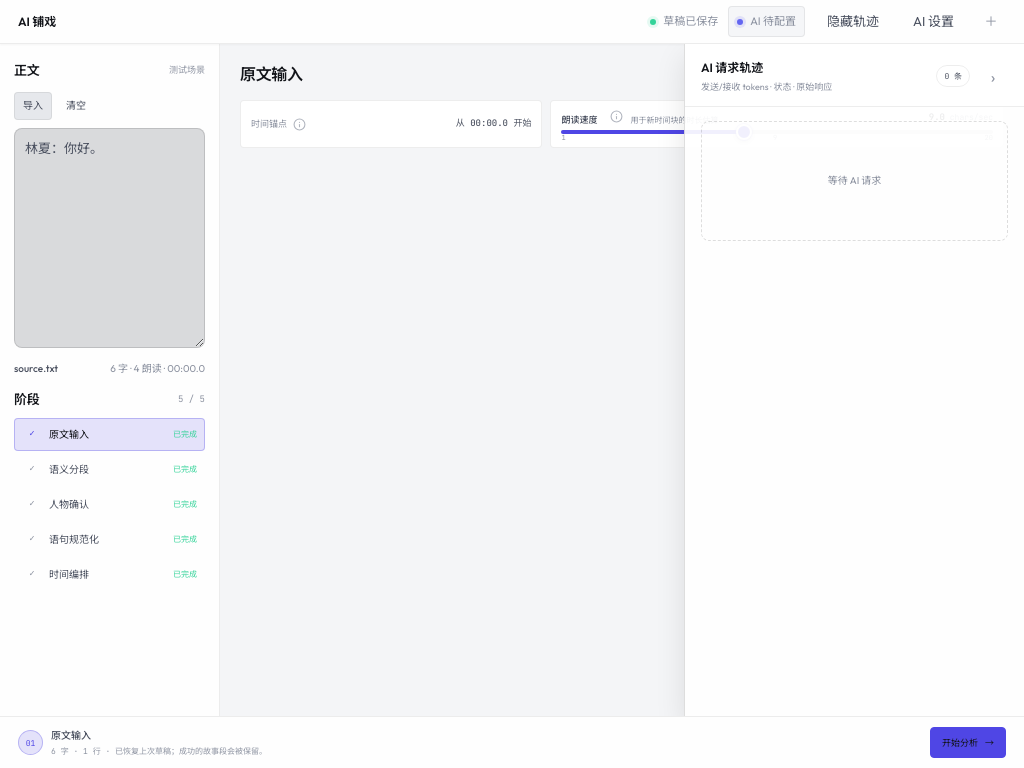
Test: AiProseWorkbench › does not restore an enhancement stage plan bound to a stale document version
This screenshot has width=1024, height=768.
expect the text box named "完整正文" is shown: met, box [14,128,205,348]
Click the tab "✓ 时间编排 已完成": x=110, y=574 [14,558,205,590]
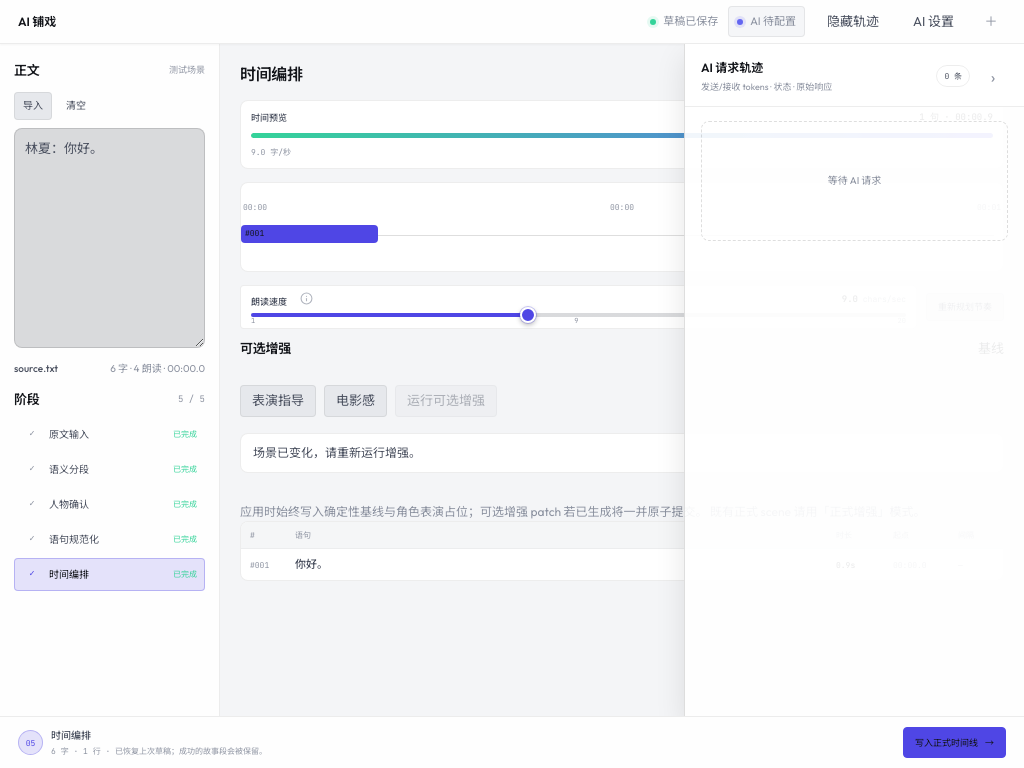
expect the text "场景已变化，请重新运行增强。" is shown: met, box [240,433,1004,473]
